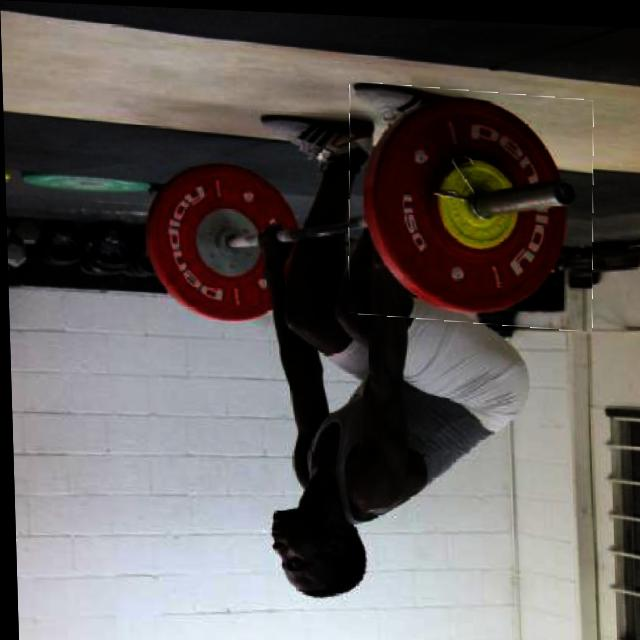barbell: (345, 81, 597, 325)
